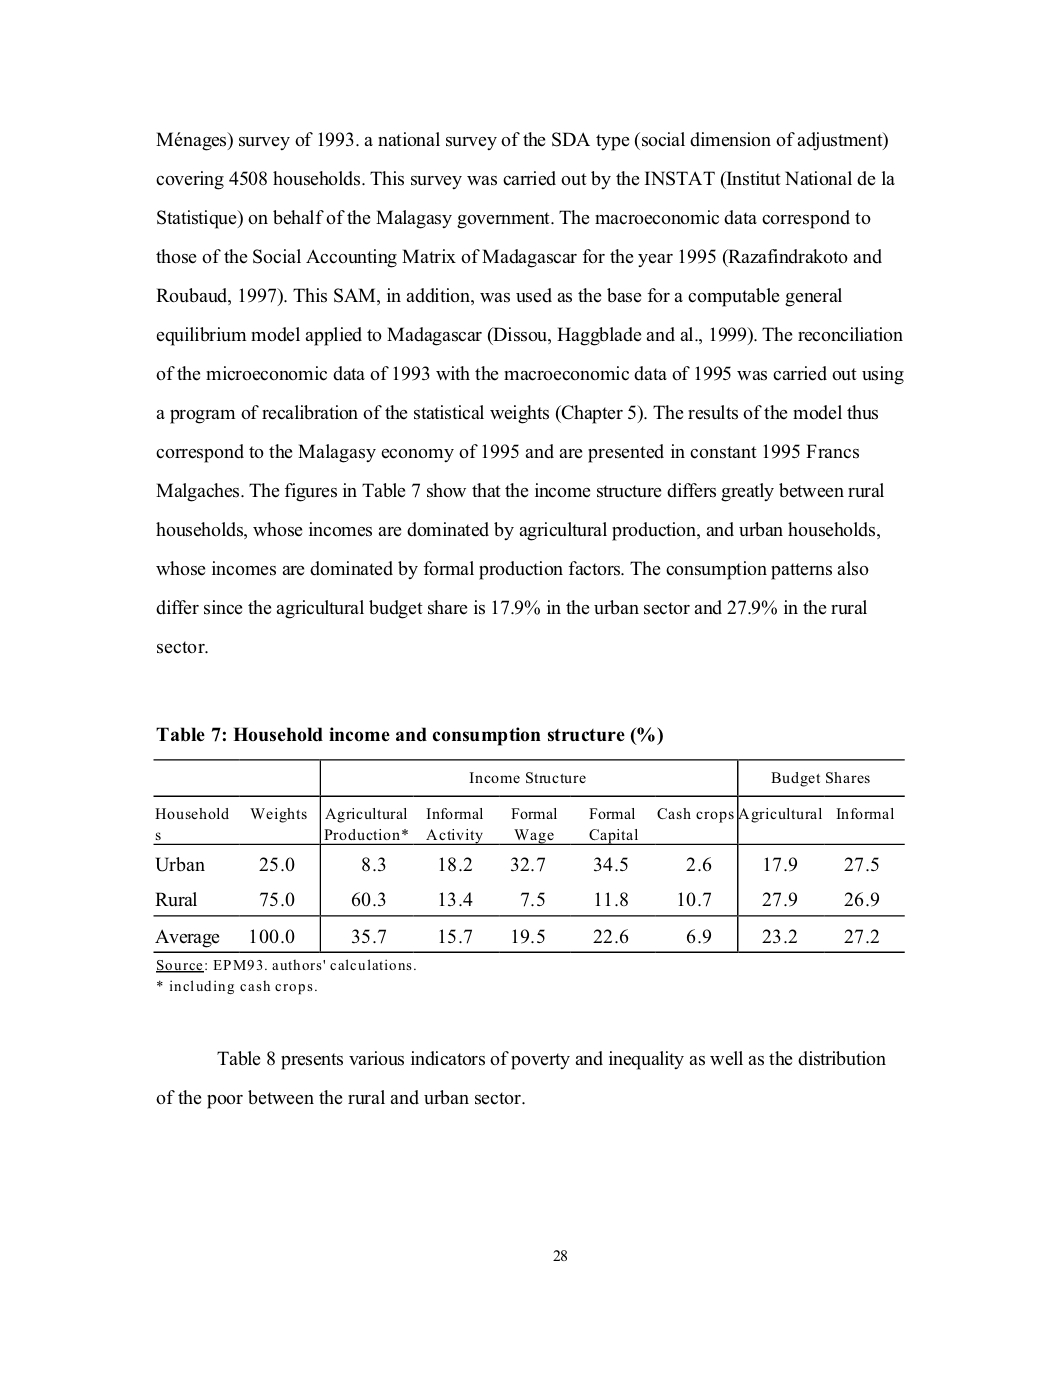Table: (153, 758, 904, 953)
